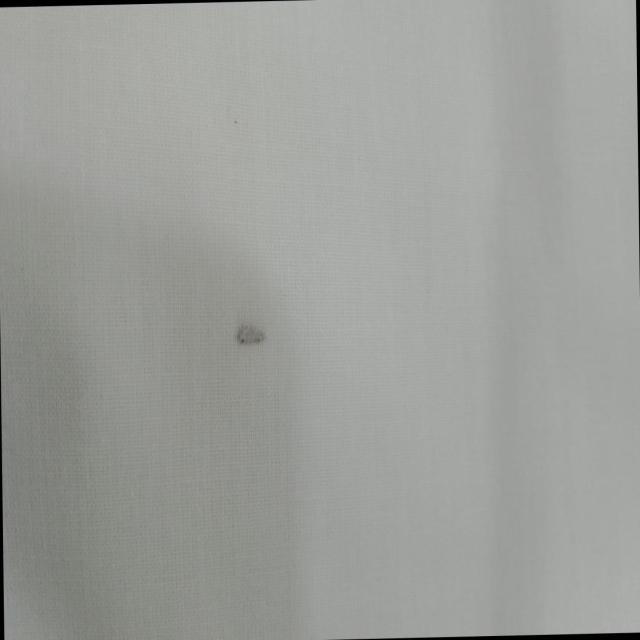stain: (222, 308, 278, 366)
